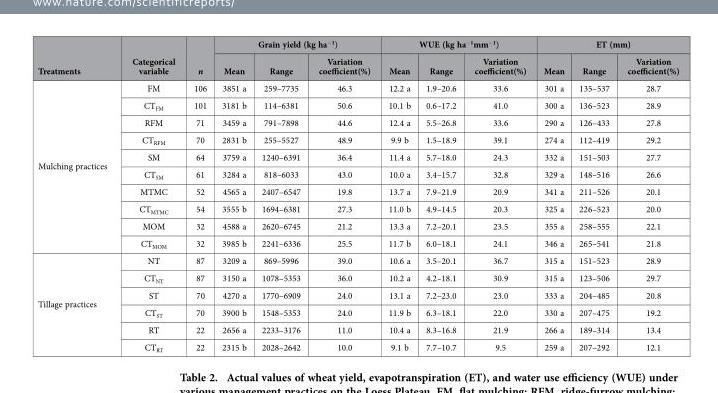table: (37, 37, 678, 353)
table column: (37, 37, 118, 353), (308, 37, 378, 353), (464, 37, 534, 353), (118, 37, 183, 353), (617, 37, 678, 353), (253, 37, 308, 353), (417, 37, 464, 353), (571, 37, 617, 353), (213, 37, 253, 353), (378, 37, 417, 353), (534, 37, 571, 353), (183, 37, 213, 353)
table column header: (37, 37, 678, 79)
table row: (37, 52, 678, 79), (37, 130, 678, 148), (37, 199, 678, 217), (37, 234, 678, 252), (37, 268, 678, 286), (37, 303, 678, 321), (37, 79, 678, 96), (37, 96, 678, 113), (37, 113, 678, 130), (37, 148, 678, 165), (37, 165, 678, 182), (37, 182, 678, 199), (37, 217, 678, 234), (37, 286, 678, 303), (37, 252, 678, 268), (37, 321, 678, 337), (37, 337, 678, 353), (37, 37, 678, 52)
table spanning cell: (37, 79, 118, 252), (37, 252, 118, 353), (37, 37, 118, 79), (118, 37, 183, 79), (213, 37, 378, 52), (378, 37, 534, 52), (534, 37, 678, 52), (183, 37, 213, 79)
